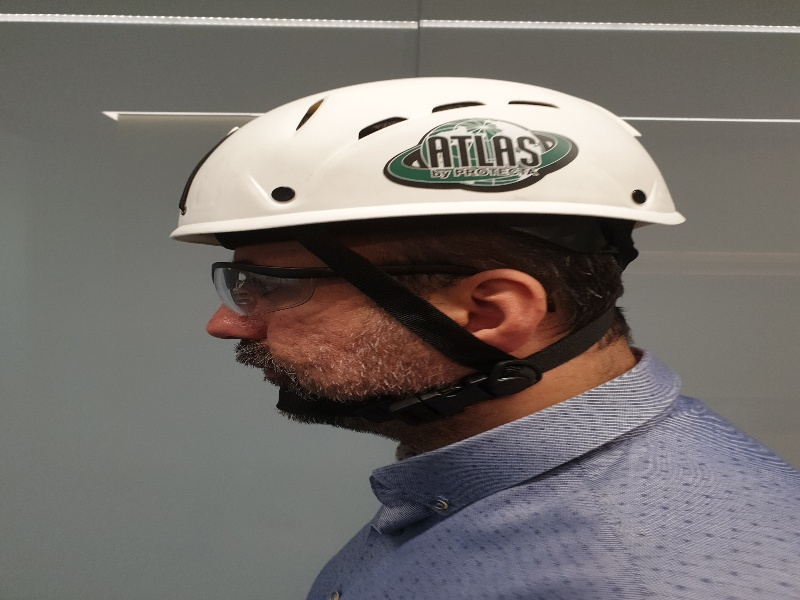Baret: (172, 78, 689, 241)
Gozluk: (210, 257, 492, 318)
